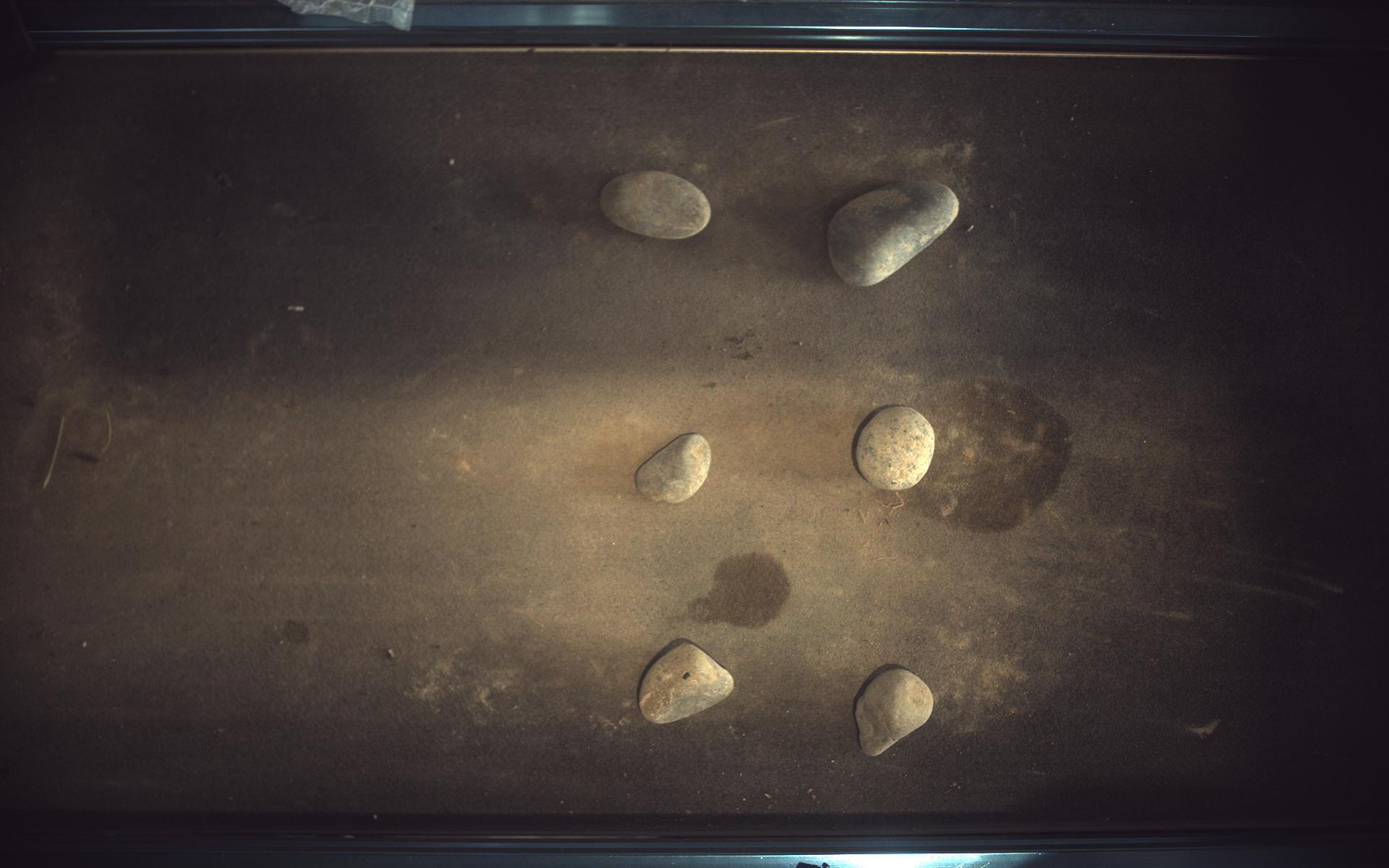stone: (829, 181, 961, 286), (640, 644, 735, 726), (600, 170, 712, 239), (857, 669, 935, 757), (857, 406, 937, 490), (636, 434, 711, 503)
